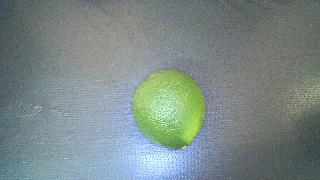EXPORTACION: (133, 70, 205, 150)
